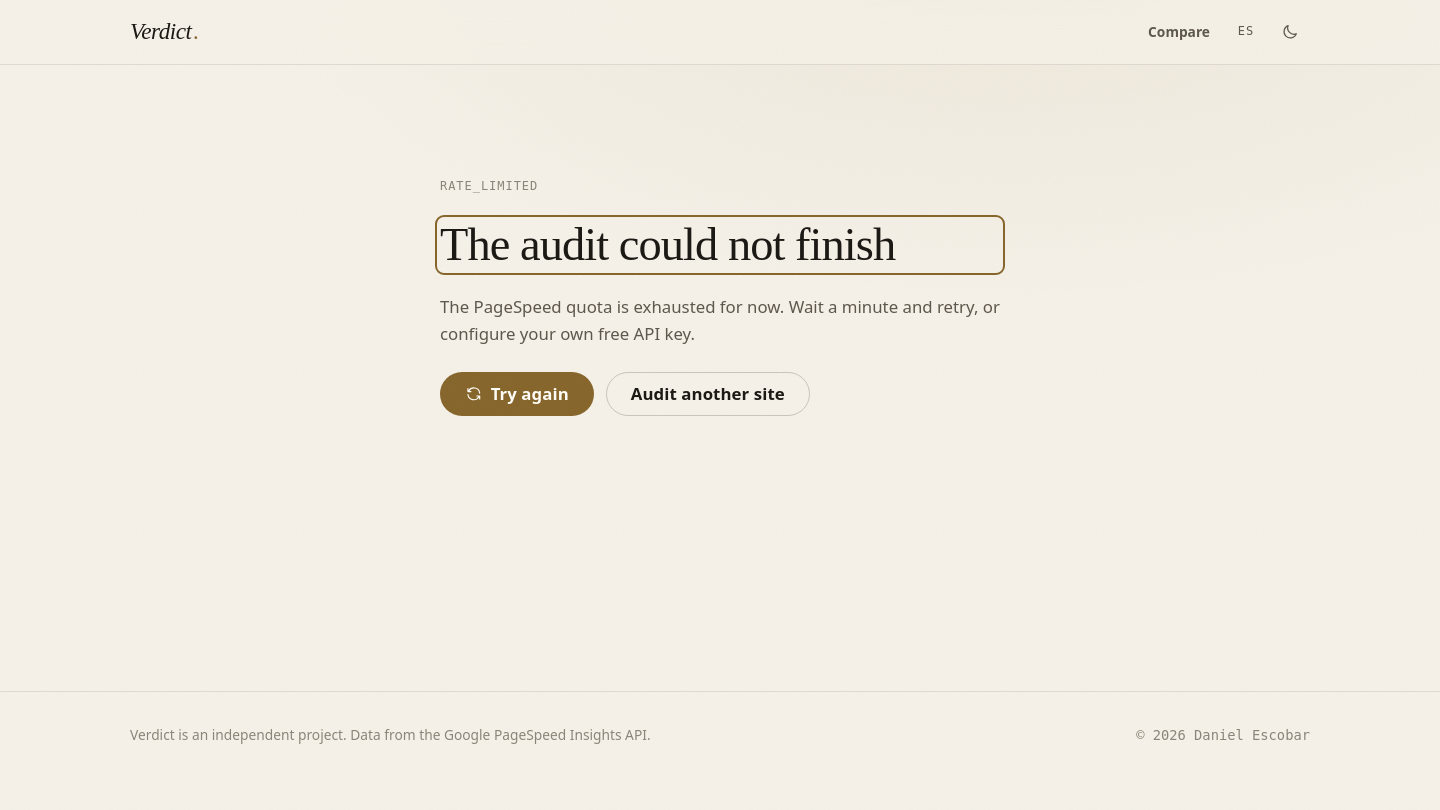
Test case: Report › explains a quota error and lets the user retry
Expected: the message shows "quota is exhausted", [440,295,1000,345]
Click the button "Try again".
click(517, 394)  # box [440,372,594,416]
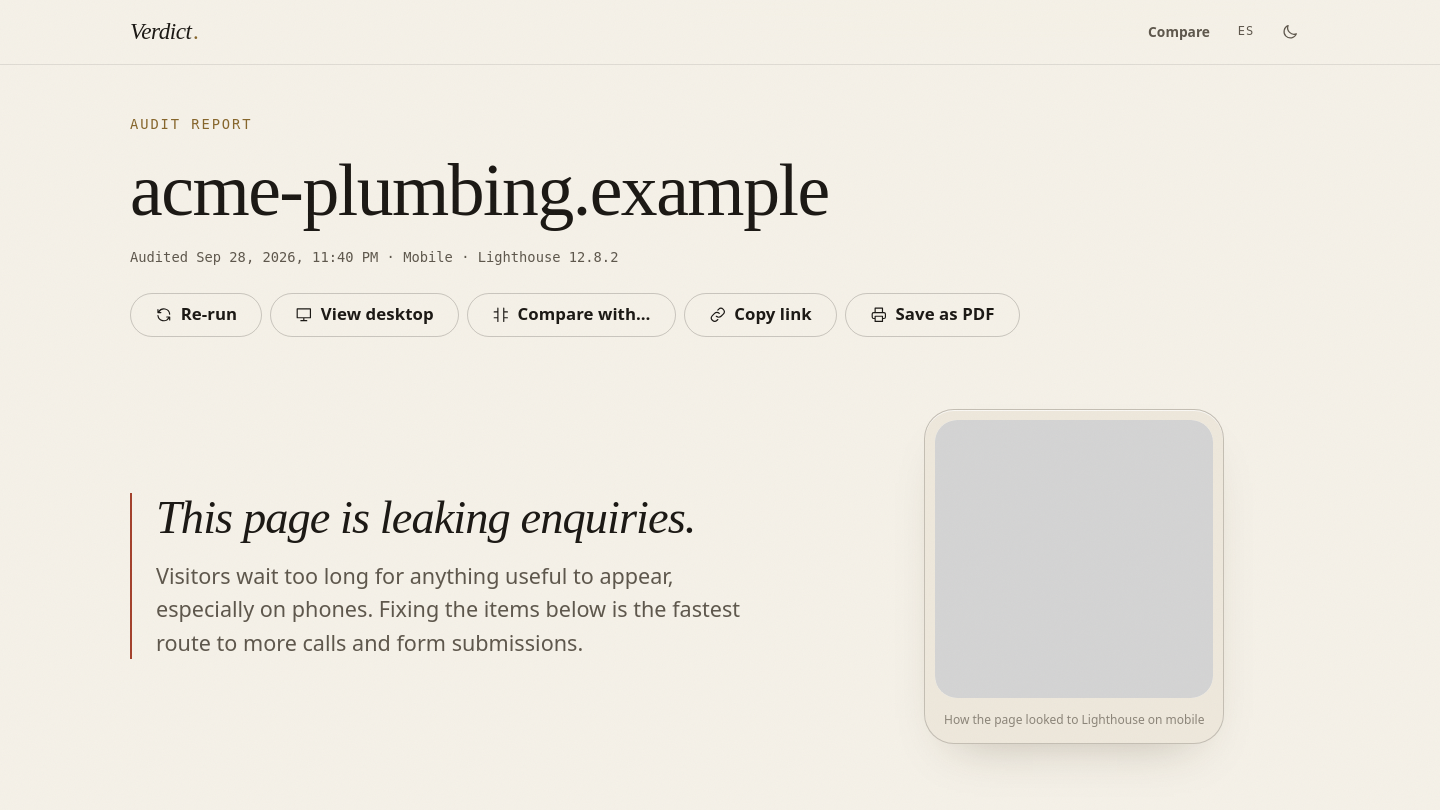
Expected: the heading "This page is leaking enquiries." is shown, [156,493,766,543]
